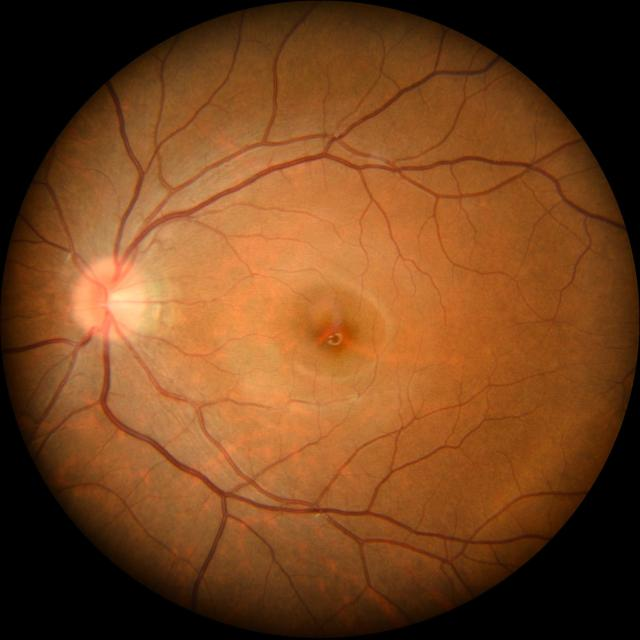OC: (105, 288, 133, 318)
OD: (74, 256, 149, 342)
